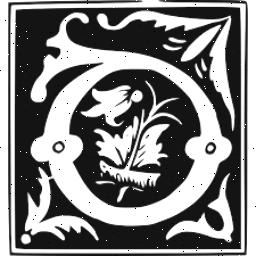o: (39, 40, 231, 230)
